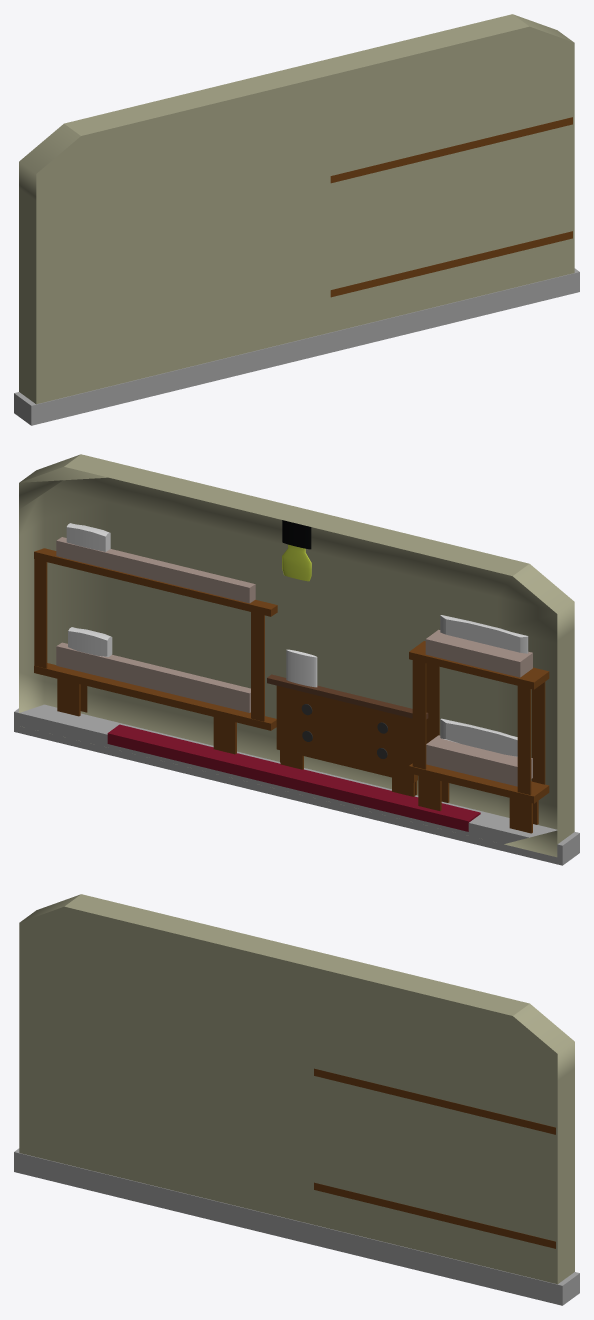
The model's file is Mushed_Barracks.fbx.
The picture shows the model from 3 angles, top to bottom: view 1: azimuth 30°, elevation 25°; view 2: azimuth 150°, elevation 25°; view 3: azimuth 330°, elevation 25°; orthographic projection.
Visible parts, largest first — view 1: pCylinder7; view 2: pCylinder7; view 3: pCylinder7.
Part boxes in pixels (box(x1,y1,x2,y2)): pCylinder7: box(14, 14, 579, 425); pCylinder7: box(14, 454, 579, 865); pCylinder7: box(14, 894, 579, 1305).
Size of the model in its own units: 17.03 by 8.23 by 0.9486.
